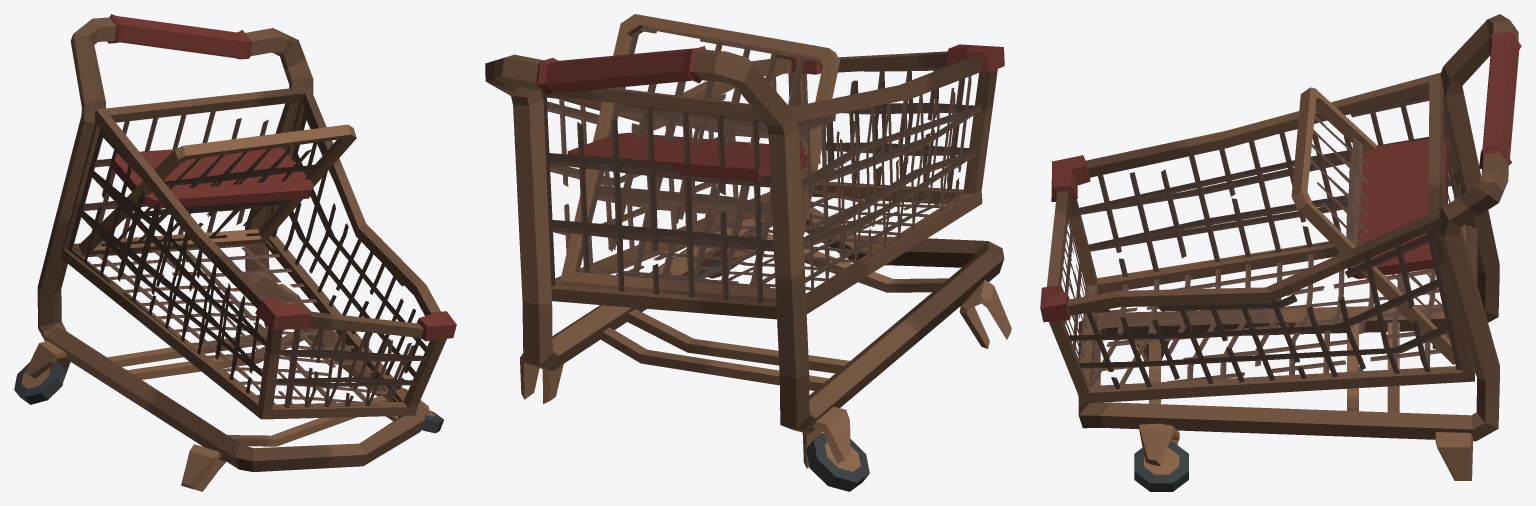
Rendered from SM_Prop_ShoppingCart_Broken_01.obj.
The picture shows the model from 3 angles, left to right: view 1: azimuth 30°, elevation 25°; view 2: azimuth 150°, elevation 25°; view 3: azimuth 270°, elevation 25°; orthographic projection. The views are drawn at different scales.
Parts seen in each view (by area): view 1: SM_Prop_ShoppingCart_Broken_01_1, SM_Prop_ShoppingCart_Broken_01_0; view 2: SM_Prop_ShoppingCart_Broken_01_1, SM_Prop_ShoppingCart_Broken_01_0; view 3: SM_Prop_ShoppingCart_Broken_01_1, SM_Prop_ShoppingCart_Broken_01_0.
Boxes of the visible parts, x1=… form: SM_Prop_ShoppingCart_Broken_01_1: x1=14, y1=14, x2=456, y2=491; SM_Prop_ShoppingCart_Broken_01_0: x1=67, y1=102, x2=433, y2=407; SM_Prop_ShoppingCart_Broken_01_1: x1=485, y1=14, x2=1011, y2=491; SM_Prop_ShoppingCart_Broken_01_0: x1=542, y1=27, x2=985, y2=302; SM_Prop_ShoppingCart_Broken_01_1: x1=1040, y1=14, x2=1521, y2=491; SM_Prop_ShoppingCart_Broken_01_0: x1=1061, y1=92, x2=1470, y2=388.
Size of the model in its own units: 1.02 by 1.14 by 1.32.
2 materials, 2 textured.
